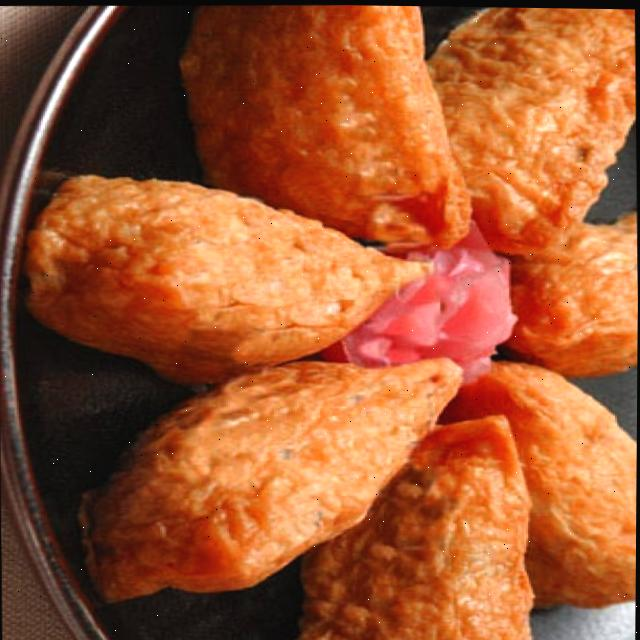寿司卷物: (20, 0, 640, 640)
